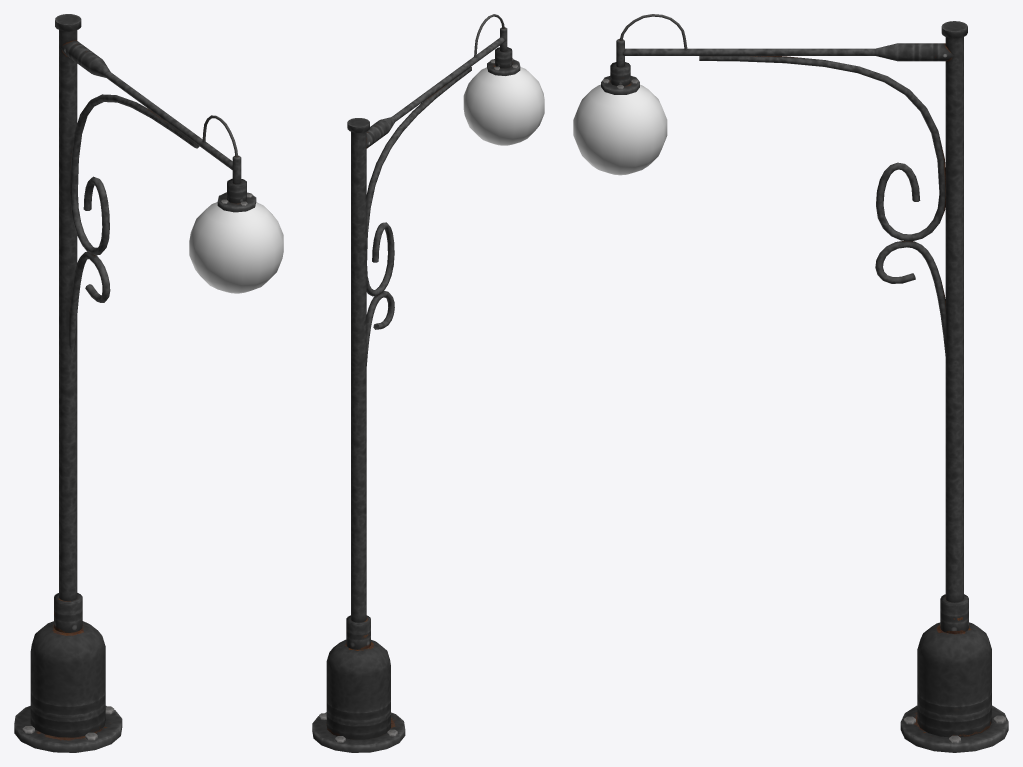
File: Lamp_Street2.fbx
3 views of the same model, side by side, from view 1: azimuth 30°, elevation 25°; view 2: azimuth 150°, elevation 25°; view 3: azimuth 270°, elevation 25° (orthographic). The views are drawn at different scales.
Parts seen in each view (by area): view 1: Lamp_Street2_LOD0; view 2: Lamp_Street2_LOD0; view 3: Lamp_Street2_LOD0.
Boxes of the visible parts, x1,y1,x2,y2 form: Lamp_Street2_LOD0: [14, 14, 283, 752]; Lamp_Street2_LOD0: [312, 14, 544, 752]; Lamp_Street2_LOD0: [573, 14, 1008, 752].
Size of what is drawn, in the model's own units: 56.08 by 410 by 226.
